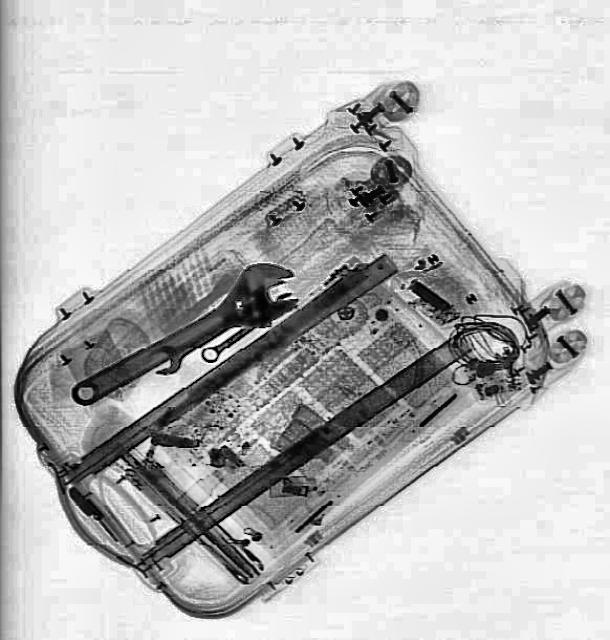Wrench: (57, 246, 313, 426), (197, 286, 300, 366), (143, 305, 241, 381)
